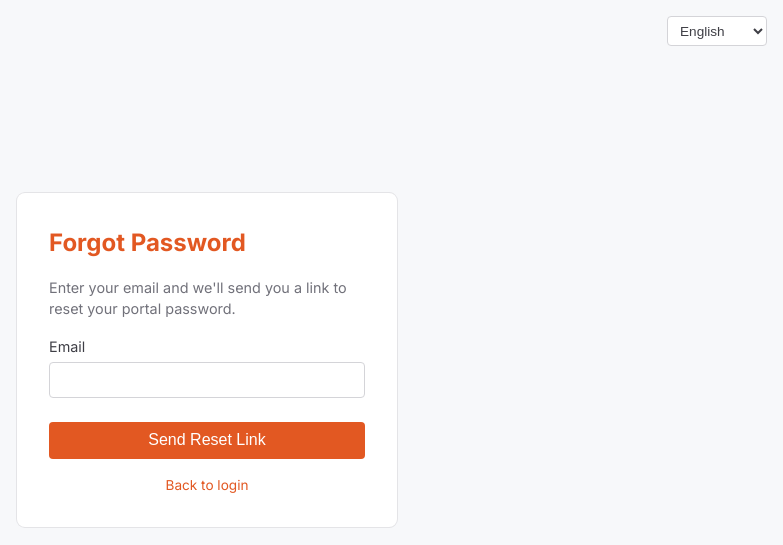
PortalForgotPassword page › submits to the portal endpoint and shows the generic success message
This screenshot has width=783, height=545.
Type "client@test.com" into the field labelled "Email".
click(207, 380); type("client@test.com")  # box x1=49 y1=362 x2=365 y2=398
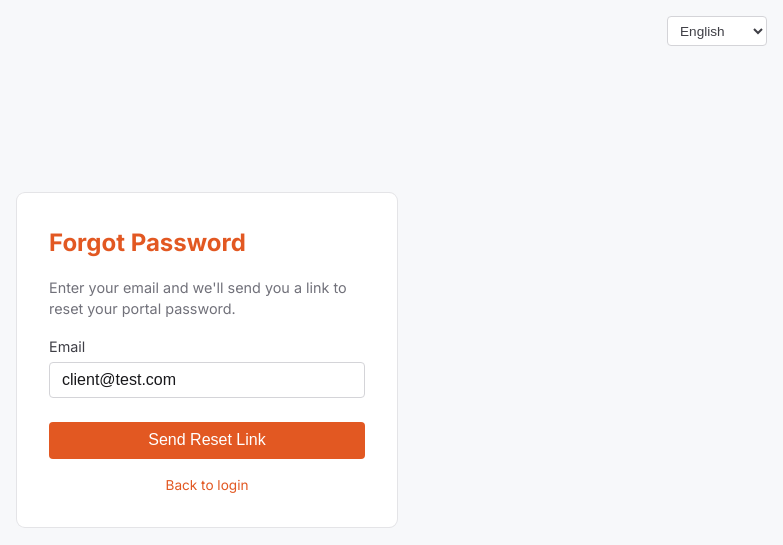
Click the button "Send Reset Link".
click(207, 440)  # box x1=49 y1=422 x2=365 y2=459
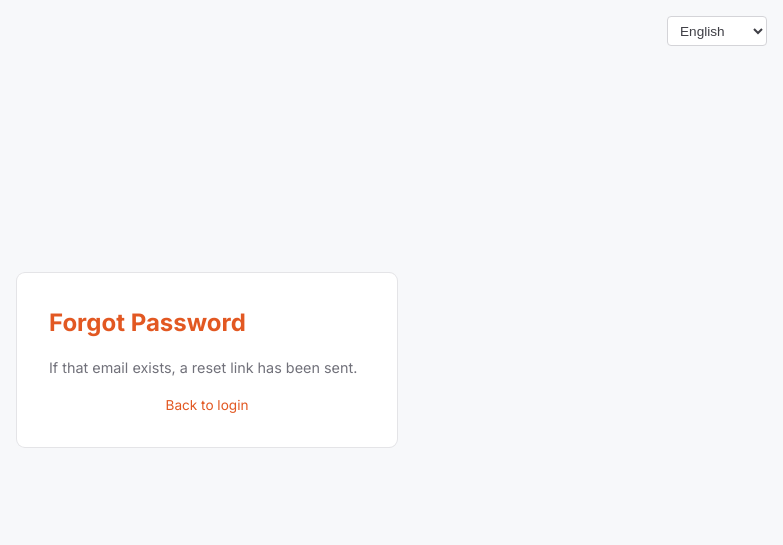
Now the text "If that email exists, a reset link has been sent." is shown, box x1=49 y1=357 x2=365 y2=379
